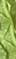Tomato mold leaf: (0, 14, 16, 45)
